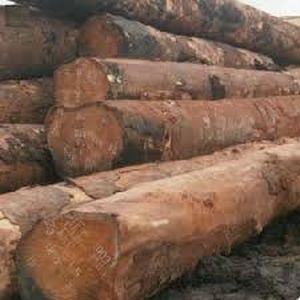log: (11, 209, 126, 300), (41, 100, 131, 178), (46, 56, 118, 111), (72, 12, 134, 59)
